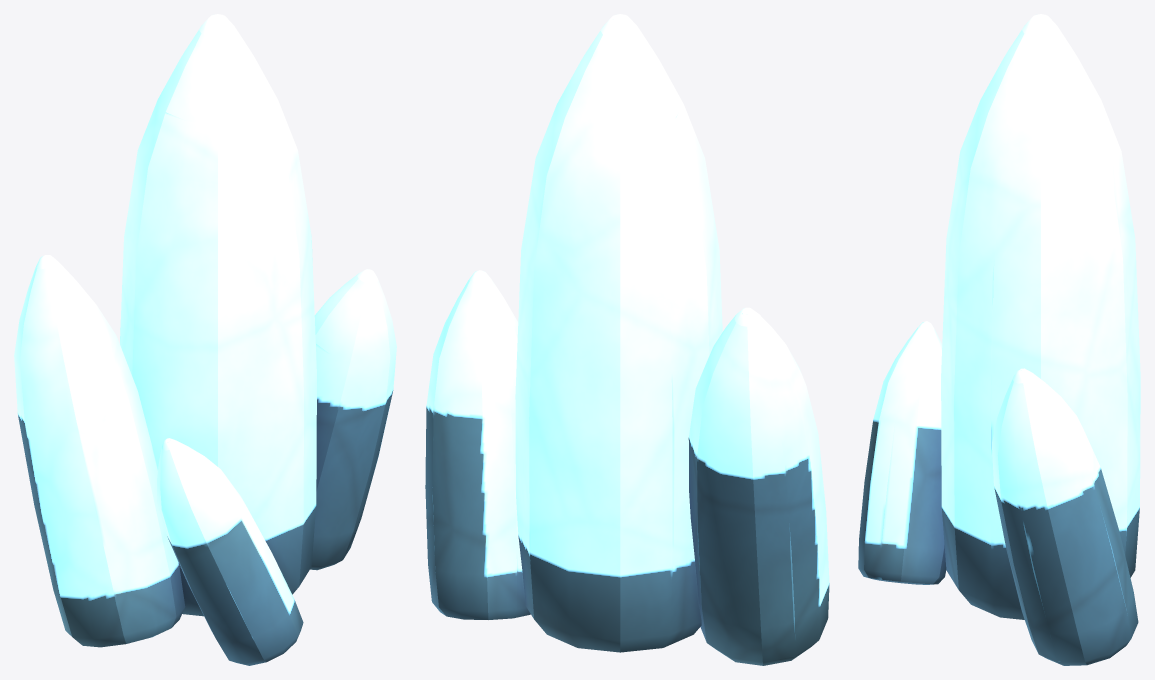
The model's file is WM_IceCrystal_A.fbx.
3 renders of one model, left to right at view 1: azimuth 30°, elevation 25°; view 2: azimuth 150°, elevation 25°; view 3: azimuth 270°, elevation 25°, orthographic. The views are drawn at different scales.
Parts seen in each view (by area): view 1: WM_IceCrystal_A_LOD0; view 2: WM_IceCrystal_A_LOD0; view 3: WM_IceCrystal_A_LOD0.
Boxes of the visible parts, x1,y1,x2,y2 form: WM_IceCrystal_A_LOD0: (14, 14, 396, 665); WM_IceCrystal_A_LOD0: (425, 14, 829, 665); WM_IceCrystal_A_LOD0: (858, 14, 1140, 665).
Size of what is drawn, in the model's own units: 0.8922 by 1.39 by 0.6043.
